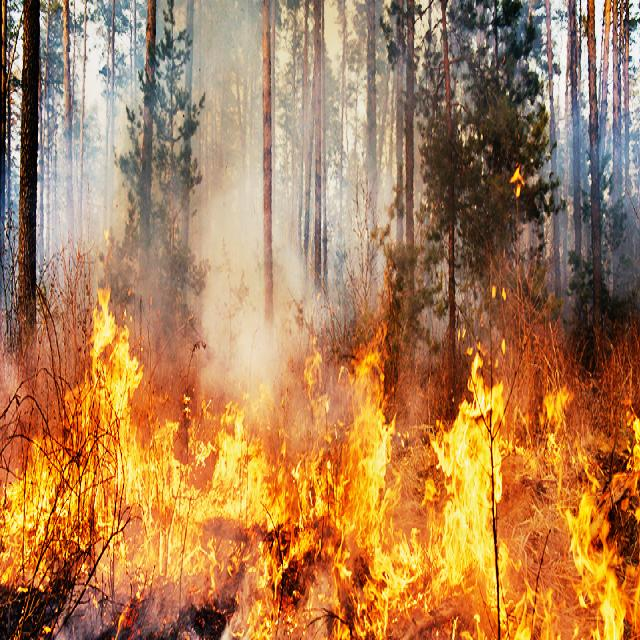api: (286, 333, 391, 639), (98, 409, 275, 577), (438, 383, 502, 640), (4, 388, 85, 591), (565, 489, 620, 640), (94, 280, 142, 415), (541, 377, 578, 480), (511, 580, 557, 640)
asap: (196, 1, 290, 405), (56, 579, 202, 640), (289, 259, 339, 329)
